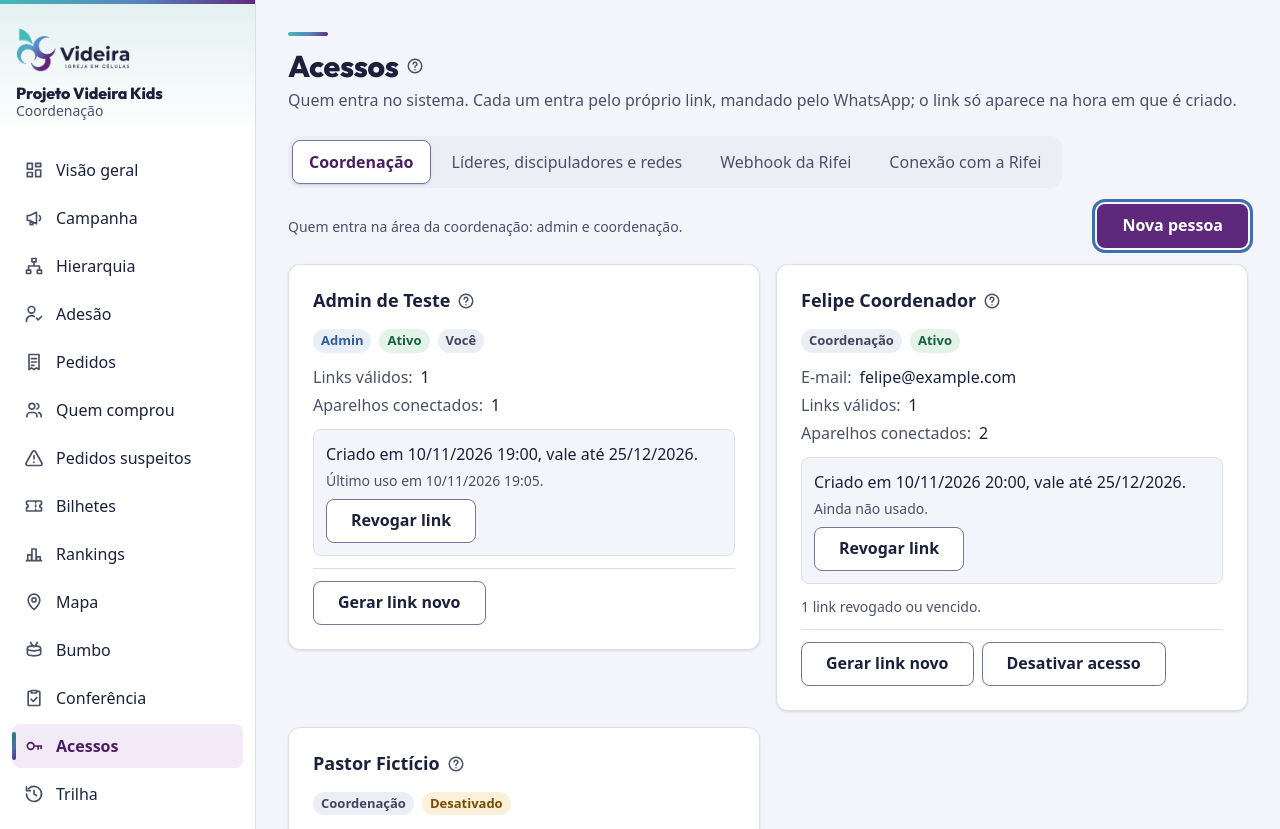
Test: CA5: nova pessoa e o link mostrado uma vez › cria a pessoa e mostra o link UMA vez (alerta, Copiar link, Enviar pelo WhatsApp); ao fechar, o link some
Expected: the heading "Admin de Teste" is shown, left=313, top=290, right=450, bottom=312
Click the button "Nova pessoa" at (1173, 226), box left=1097, top=204, right=1248, bottom=248
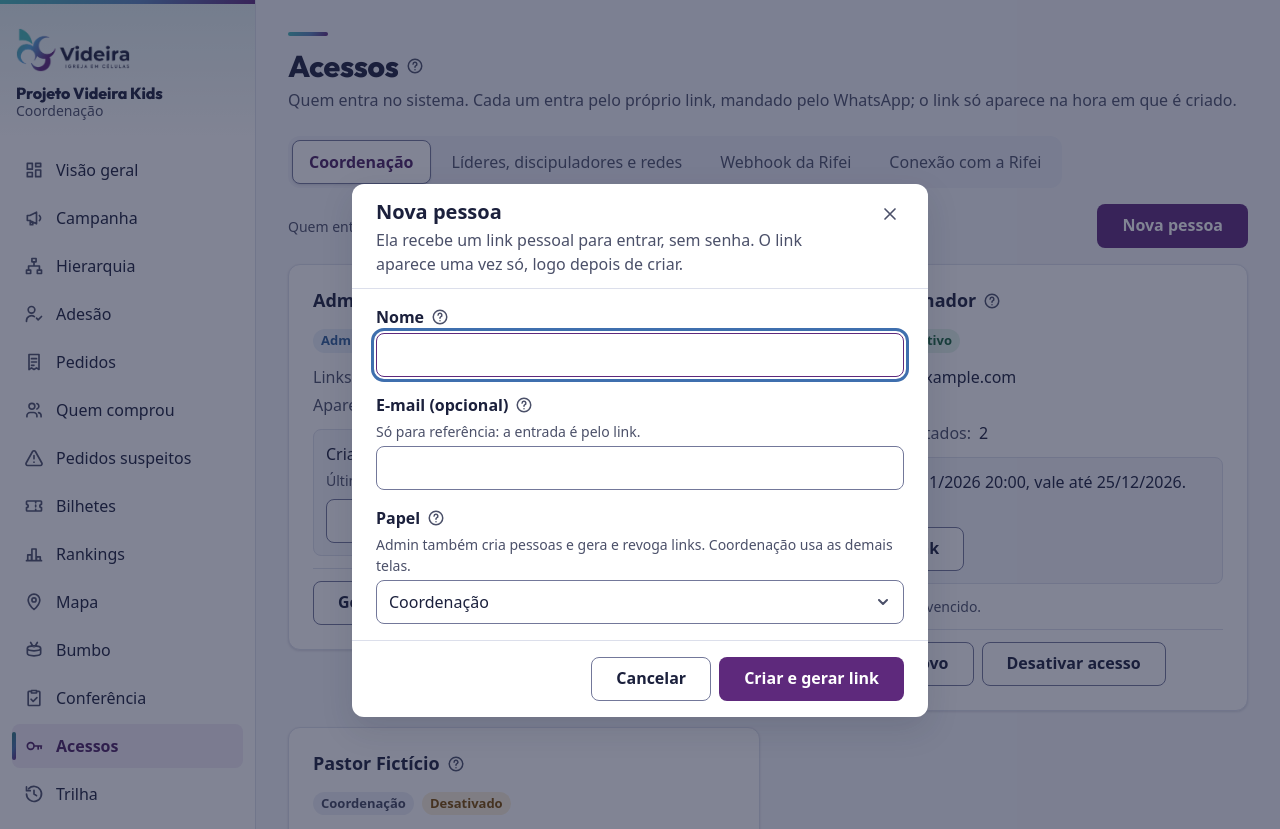
Result: the dropdown labelled "Papel" shows "Coordenação" at left=376, top=580, right=904, bottom=624
Type "  Fábio Fictício " into the field labelled "Nome" at (640, 354), box left=376, top=332, right=904, bottom=376
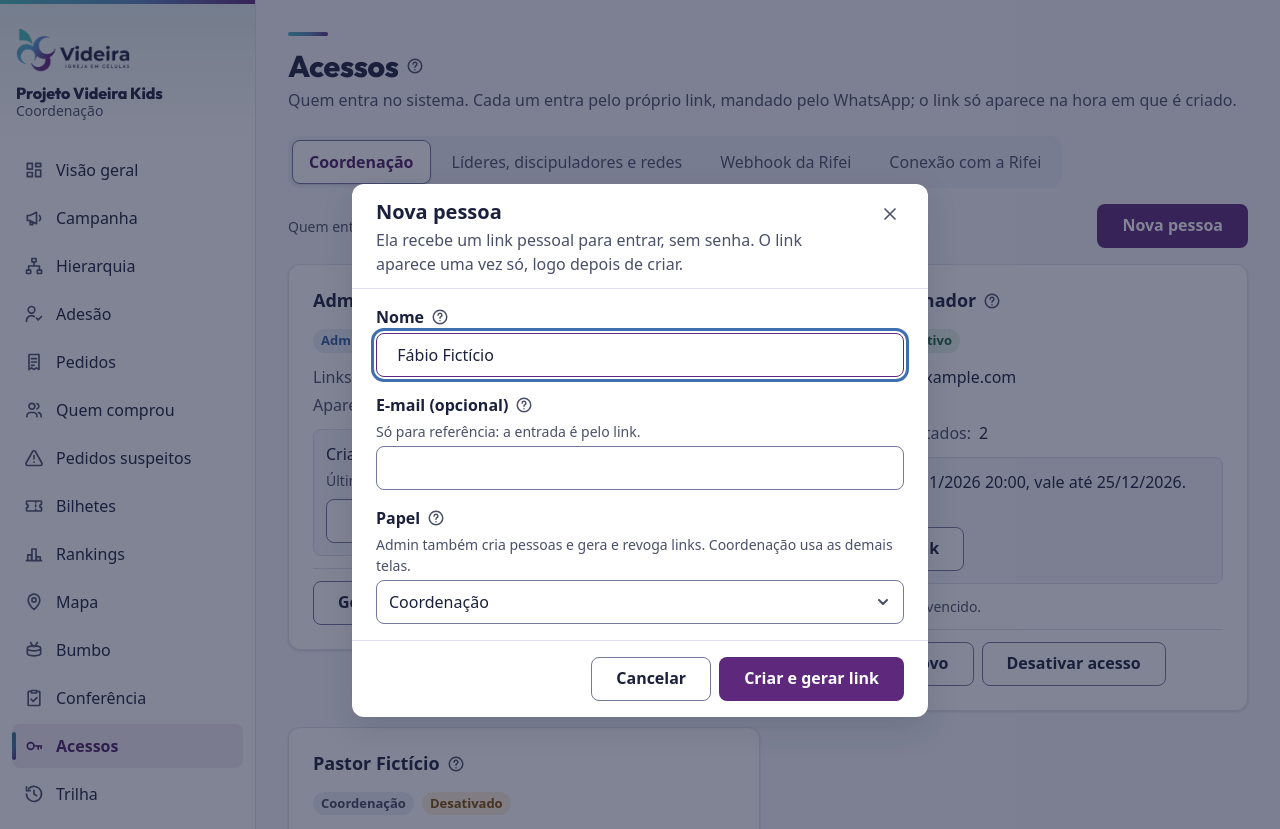
Select "Admin" in the dropdown labelled "Papel" at (640, 602), box left=376, top=580, right=904, bottom=624
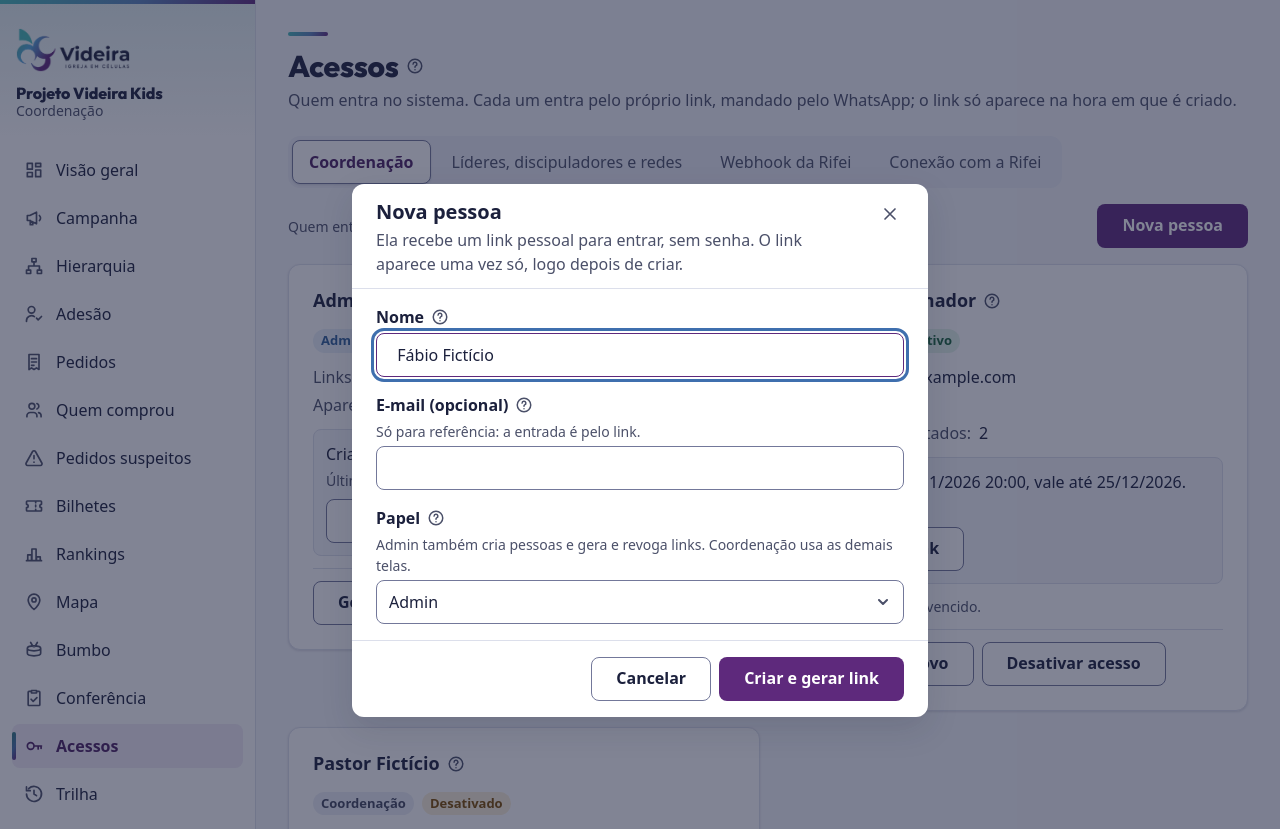
Click the button "Criar e gerar link" at (812, 678), box left=719, top=656, right=904, bottom=700
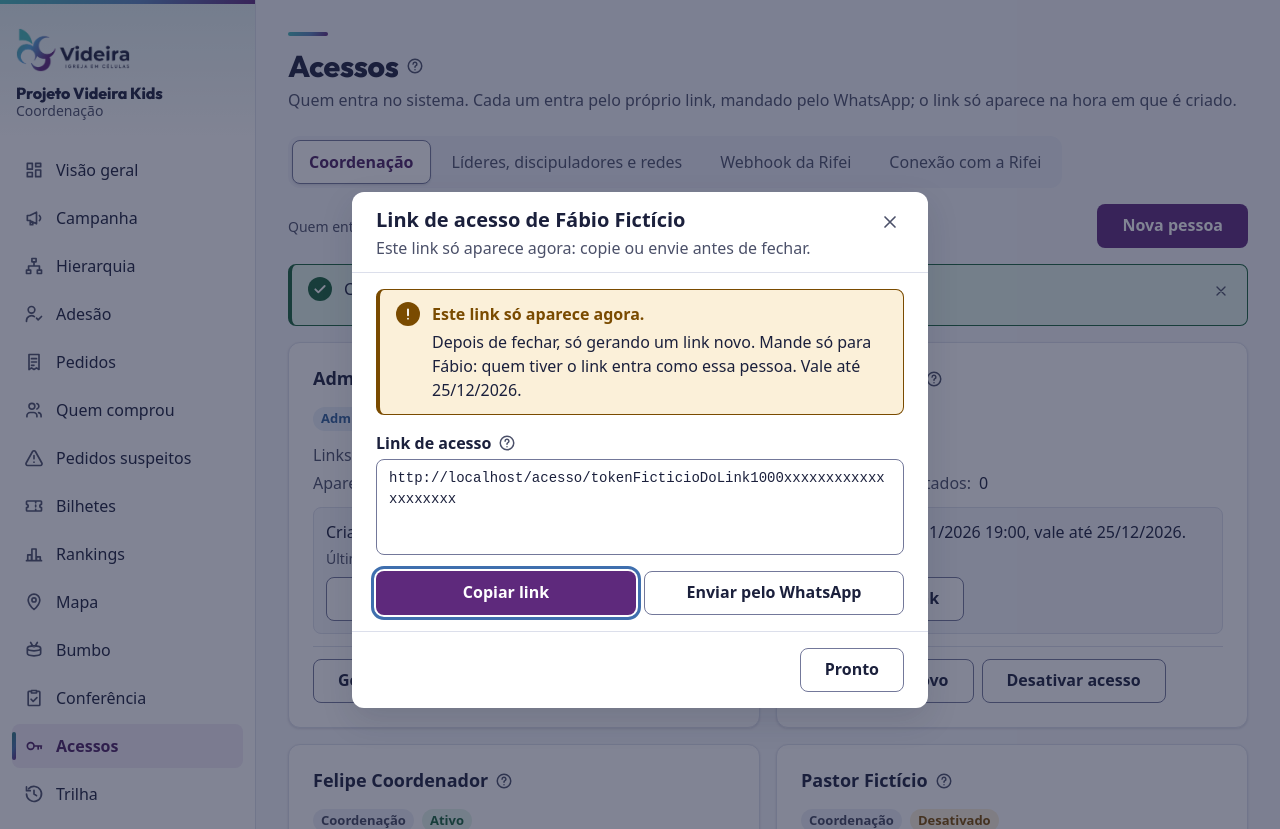
Result: the dialog "Link de acesso de Fábio Fictício" shows "Este link só aparece agora." at left=432, top=303, right=644, bottom=325
Click the button "Copiar link" at (506, 593), box left=376, top=571, right=636, bottom=615
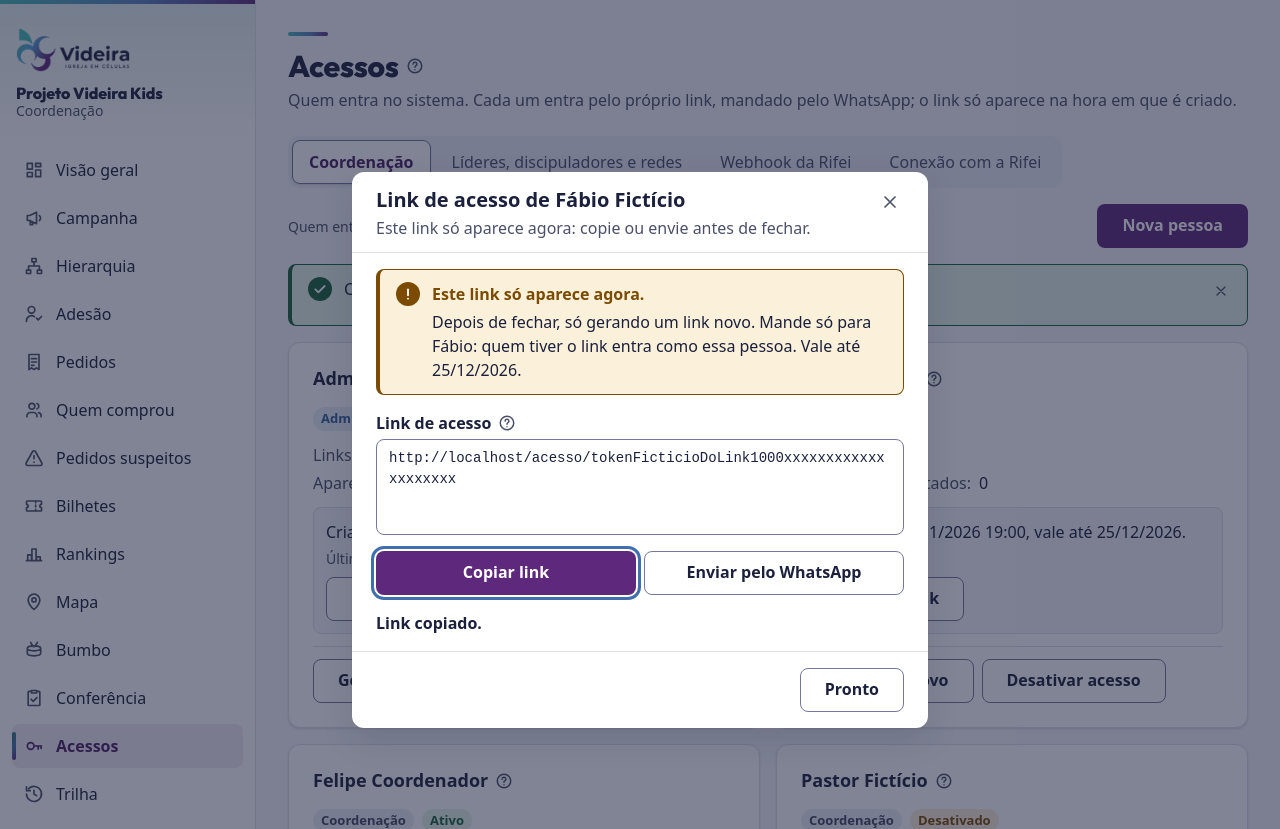
Result: the text "Link copiado." is shown at left=376, top=612, right=482, bottom=634
Click the button "Pronto" at (852, 690), box left=800, top=668, right=904, bottom=712
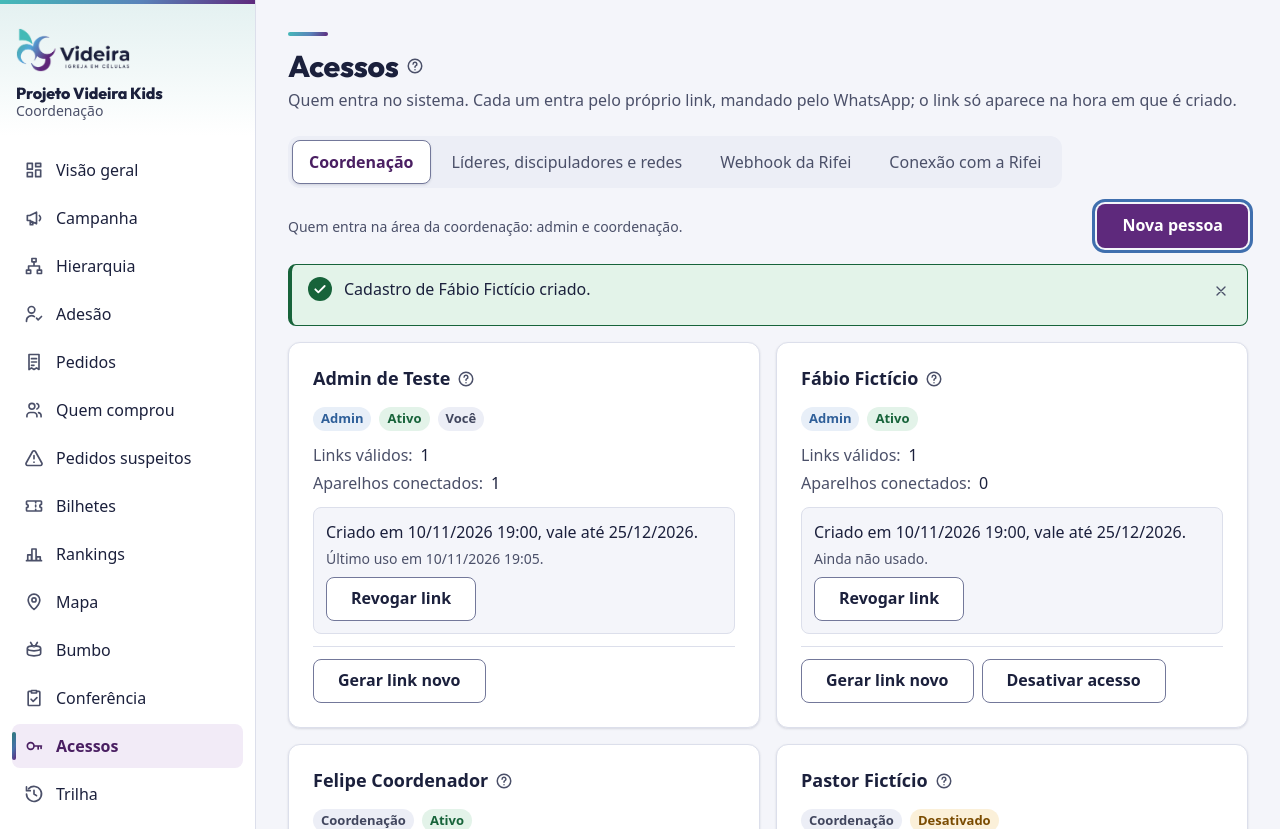
Result: the heading "Fábio Fictício" is shown at left=801, top=368, right=918, bottom=390
Result: the dialog is gone
